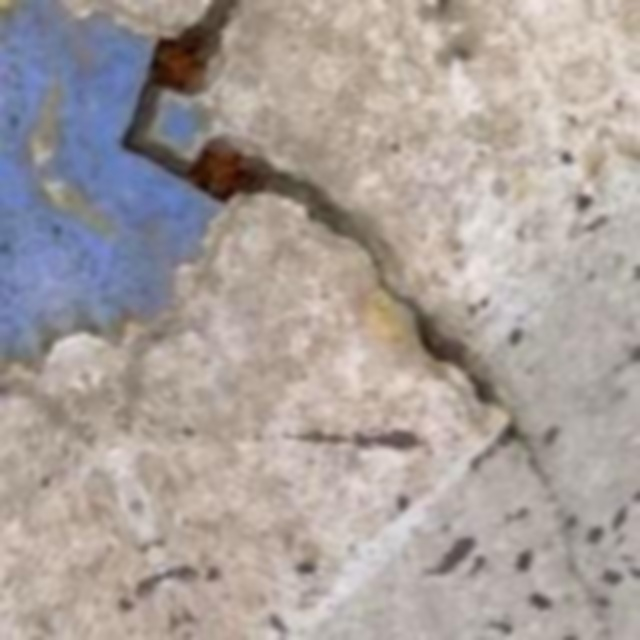SurfaceCrack: (104, 0, 566, 466)
